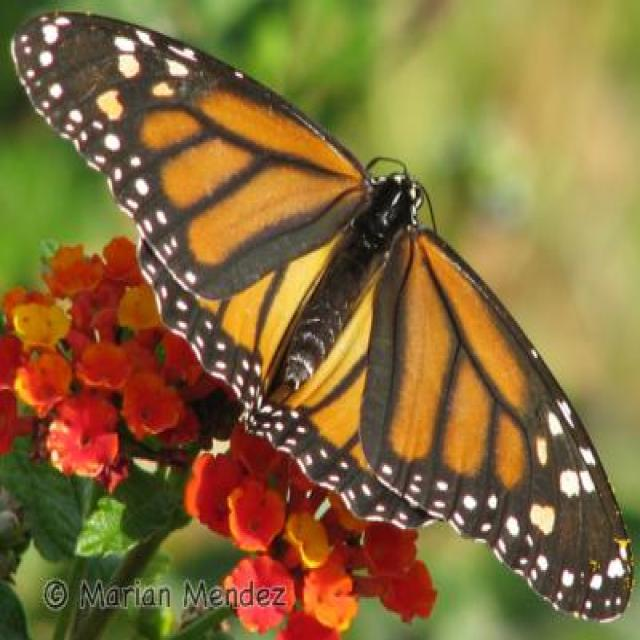body: (280, 171, 420, 391)
insect: (10, 4, 632, 623)
wings: (256, 224, 634, 623), (14, 12, 371, 411)
